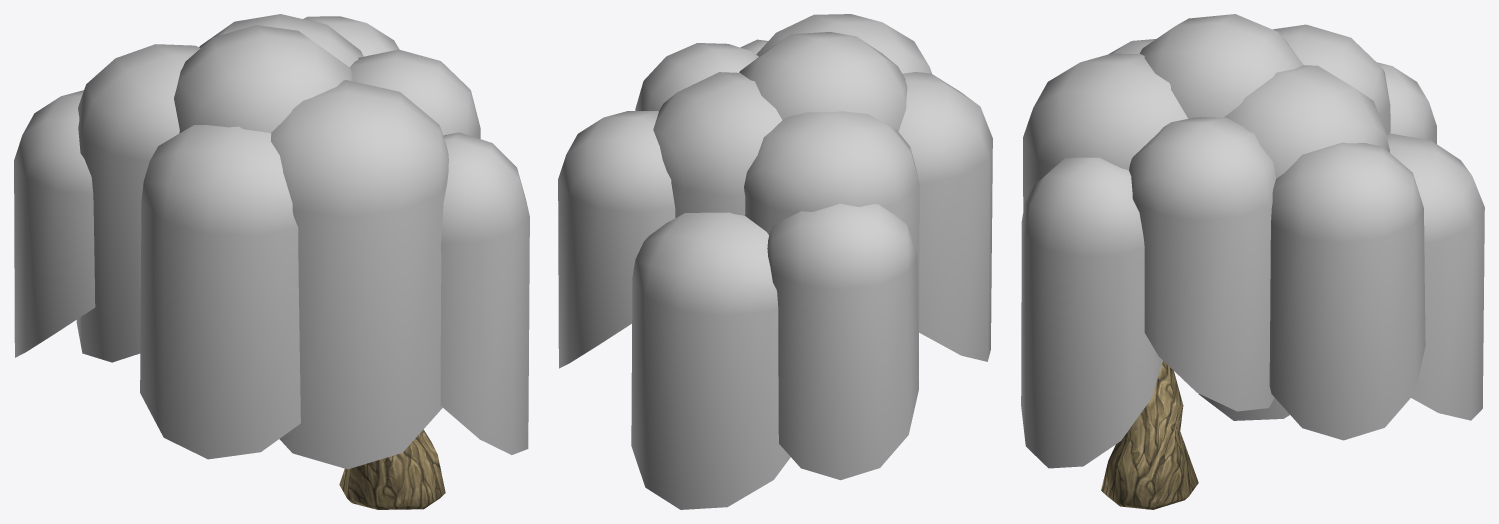
File: willow tree.FBX
3 renders of one model, left to right at view 1: azimuth 30°, elevation 25°; view 2: azimuth 150°, elevation 25°; view 3: azimuth 270°, elevation 25°, orthographic. The views are drawn at different scales.
Parts seen in each view (by area): view 1: willow tree; view 2: willow tree; view 3: willow tree.
Boxes of the visible parts, x1=… form: willow tree: x1=14, y1=14, x2=529, y2=509; willow tree: x1=558, y1=14, x2=992, y2=509; willow tree: x1=1021, y1=14, x2=1484, y2=509.
Size of the model in its own units: 12.54 by 14.66 by 14.4.
